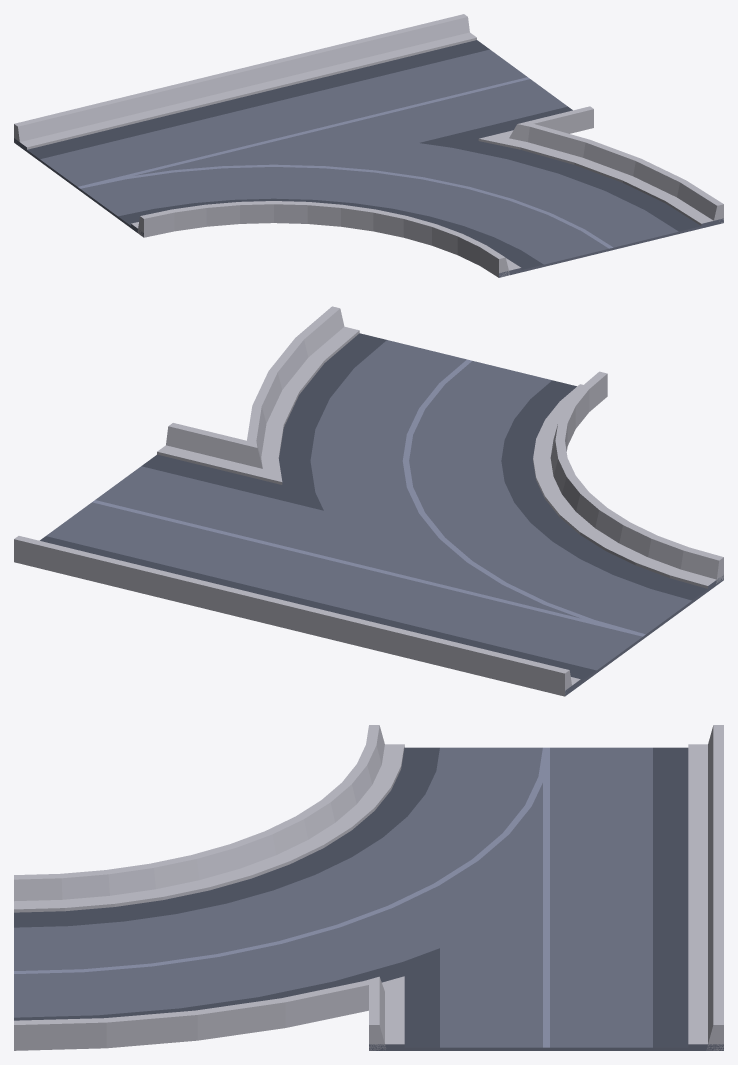
File: road_curveIntersection.glb
The picture shows the model from 3 angles, top to bottom: view 1: azimuth 30°, elevation 25°; view 2: azimuth 150°, elevation 25°; view 3: azimuth 270°, elevation 25°; orthographic projection. The views are drawn at different scales.
Parts seen in each view (by area): view 1: road_curveIntersection_30b37b, road_curveIntersection_d75837, road_curveIntersection_754f2e, road_curveIntersection_084e66, road_curveIntersection_4a62e1; view 2: road_curveIntersection_30b37b, road_curveIntersection_d75837, road_curveIntersection_754f2e, road_curveIntersection_084e66, road_curveIntersection_4a62e1; view 3: road_curveIntersection_30b37b, road_curveIntersection_d75837, road_curveIntersection_754f2e, road_curveIntersection_084e66, road_curveIntersection_4a62e1.
Part boxes in pixels (x1,y1,x2,y2): road_curveIntersection_30b37b: [14, 49, 723, 277]; road_curveIntersection_d75837: [14, 14, 723, 277]; road_curveIntersection_754f2e: [27, 40, 700, 269]; road_curveIntersection_084e66: [20, 32, 713, 277]; road_curveIntersection_4a62e1: [78, 77, 613, 248]; road_curveIntersection_30b37b: [46, 340, 723, 696]; road_curveIntersection_d75837: [14, 306, 723, 696]; road_curveIntersection_754f2e: [40, 333, 707, 681]; road_curveIntersection_084e66: [14, 326, 716, 696]; road_curveIntersection_4a62e1: [92, 359, 645, 636]; road_curveIntersection_30b37b: [14, 747, 723, 1050]; road_curveIntersection_d75837: [14, 725, 723, 1050]; road_curveIntersection_754f2e: [14, 747, 688, 1047]; road_curveIntersection_084e66: [14, 744, 707, 1050]; road_curveIntersection_4a62e1: [14, 747, 549, 1047].
Size of the model in its own units: 2 by 0.08 by 2.
